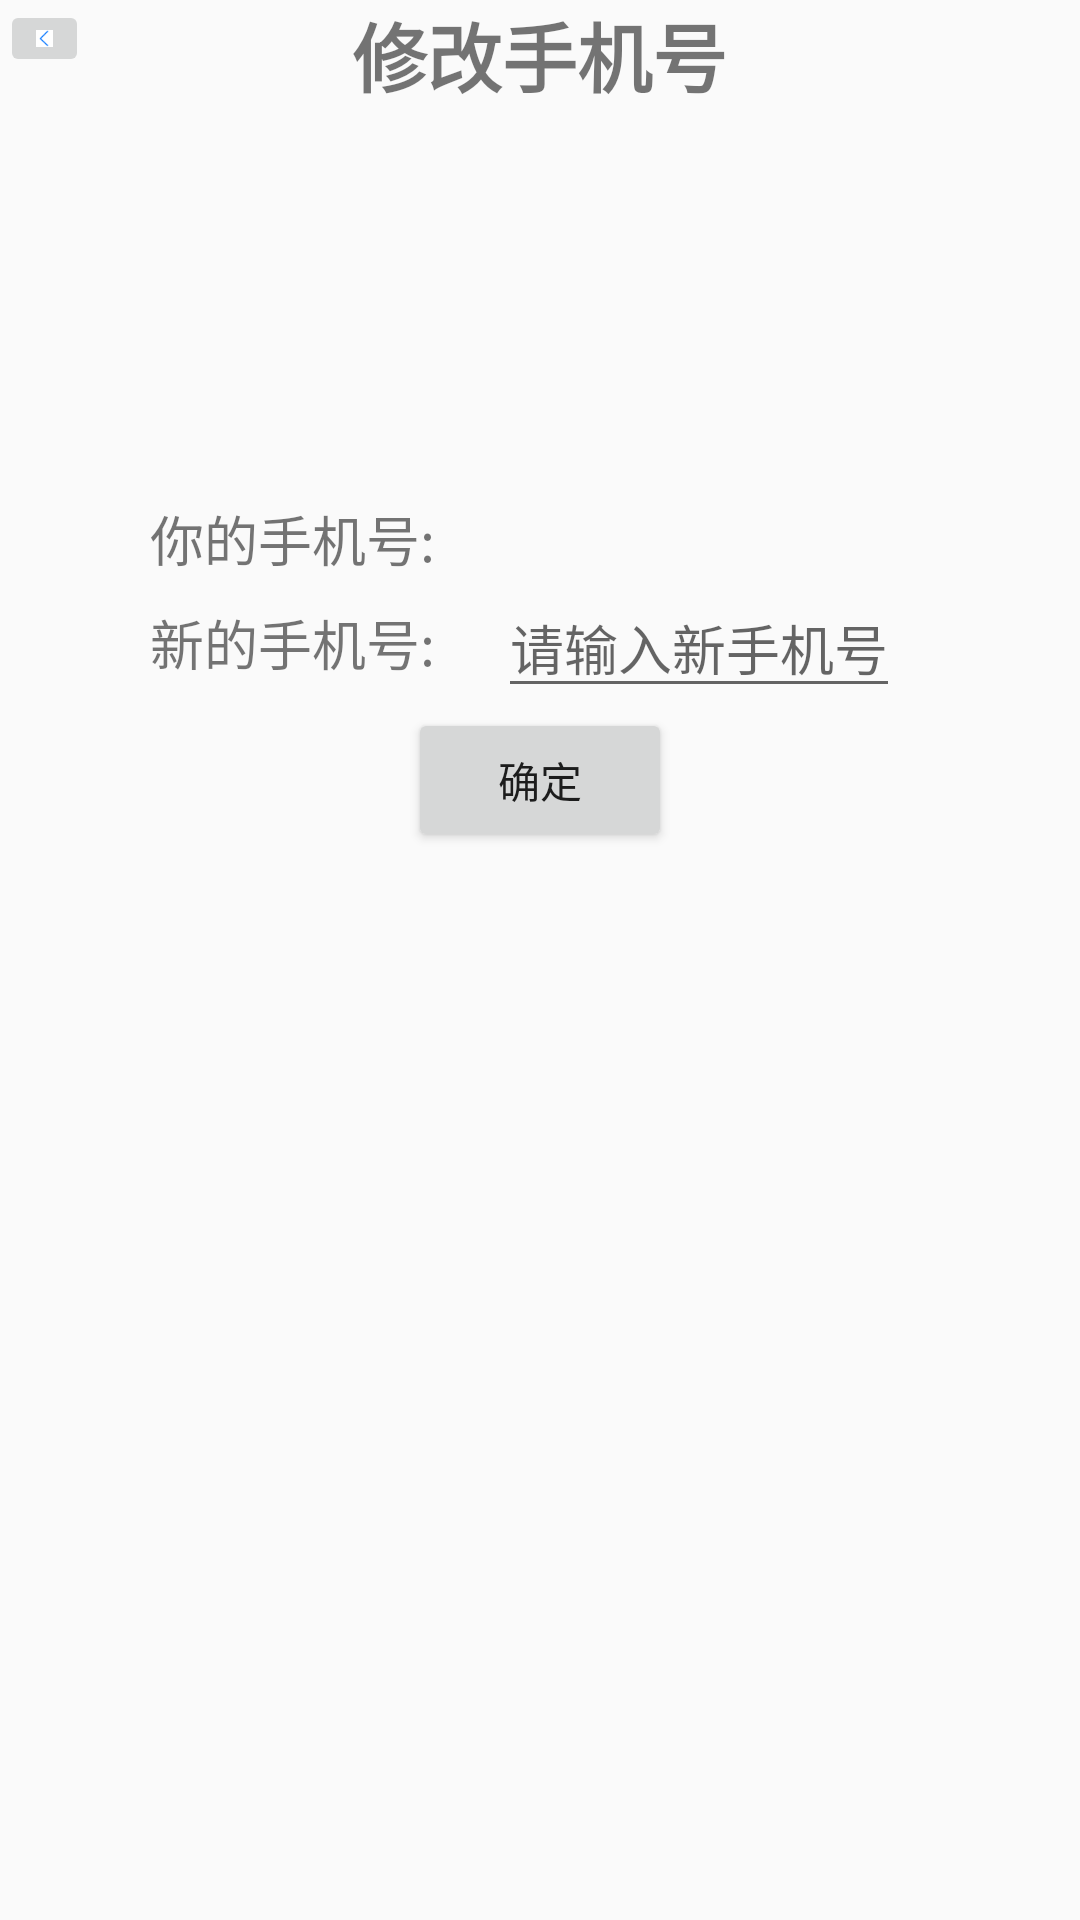

Locate icon controls on the screen. Image size 1080px×1920px, boxes as rect(x1, y1, x2, y2).
return: rect(12, 18, 77, 59)
